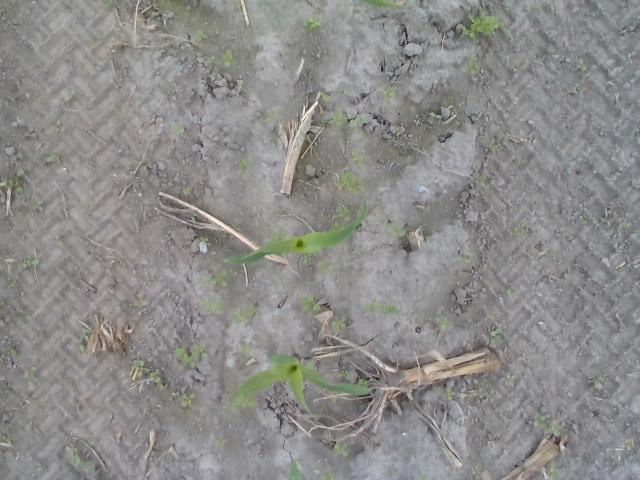Maize: (223, 200, 367, 268), (228, 353, 372, 416), (334, 0, 416, 10), (286, 460, 303, 480)
Weeds: (460, 9, 510, 39), (129, 358, 166, 392), (65, 442, 96, 480), (319, 109, 366, 129), (174, 344, 208, 370), (196, 268, 240, 288), (335, 168, 364, 192), (532, 414, 561, 437), (287, 15, 321, 33), (374, 81, 400, 103), (229, 306, 257, 326), (72, 323, 90, 353), (0, 173, 27, 193), (207, 47, 236, 65), (360, 302, 400, 314), (460, 54, 480, 76), (130, 159, 156, 175), (300, 296, 320, 316), (532, 464, 556, 480), (386, 222, 406, 241), (350, 148, 368, 168), (0, 424, 16, 446), (17, 256, 39, 272), (200, 298, 224, 312), (434, 314, 454, 330), (333, 206, 352, 221), (23, 364, 37, 384), (64, 89, 80, 106), (456, 249, 472, 265), (490, 324, 502, 345), (472, 174, 490, 188), (168, 121, 184, 136), (512, 223, 528, 238), (317, 259, 334, 273), (574, 58, 588, 75), (332, 317, 346, 333), (336, 443, 352, 457), (238, 159, 252, 175), (234, 342, 251, 355), (336, 368, 353, 381), (488, 137, 503, 151), (263, 107, 279, 120), (5, 341, 18, 357), (477, 377, 486, 399), (180, 394, 196, 406), (240, 398, 256, 410), (230, 0, 242, 16), (471, 463, 482, 480), (212, 435, 225, 449), (198, 235, 212, 248), (567, 80, 577, 97), (321, 467, 334, 480), (318, 91, 332, 103), (616, 222, 632, 232), (358, 378, 373, 388), (620, 438, 632, 450), (197, 29, 210, 40), (504, 374, 518, 384), (592, 376, 607, 385), (33, 462, 44, 474), (428, 111, 442, 120), (100, 0, 112, 10), (416, 473, 432, 480), (128, 304, 142, 312), (578, 214, 588, 225), (446, 387, 454, 400), (487, 311, 497, 320), (502, 287, 512, 296), (232, 223, 242, 232), (182, 185, 191, 194), (14, 312, 24, 320), (318, 385, 328, 393), (392, 127, 400, 136), (302, 255, 312, 262), (191, 216, 197, 224), (0, 298, 6, 306)
